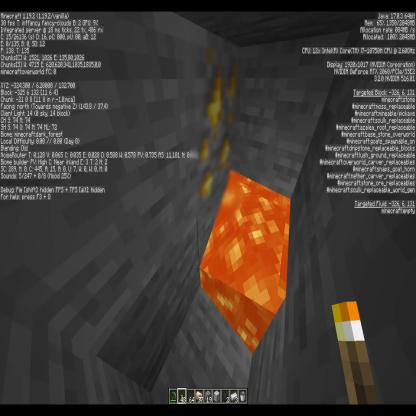gold ore: (190, 38, 240, 218)
